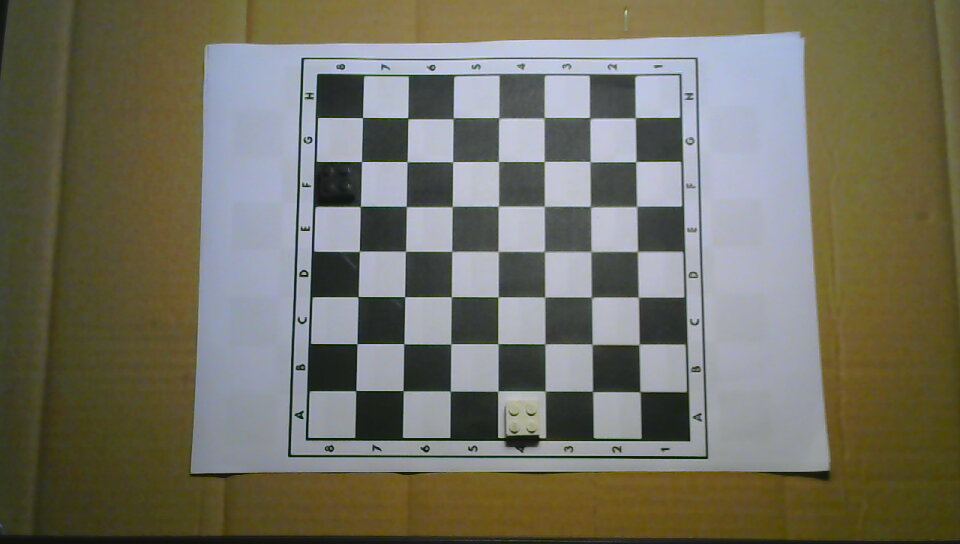bp: (318, 162, 355, 203)
wp: (502, 401, 543, 442)
